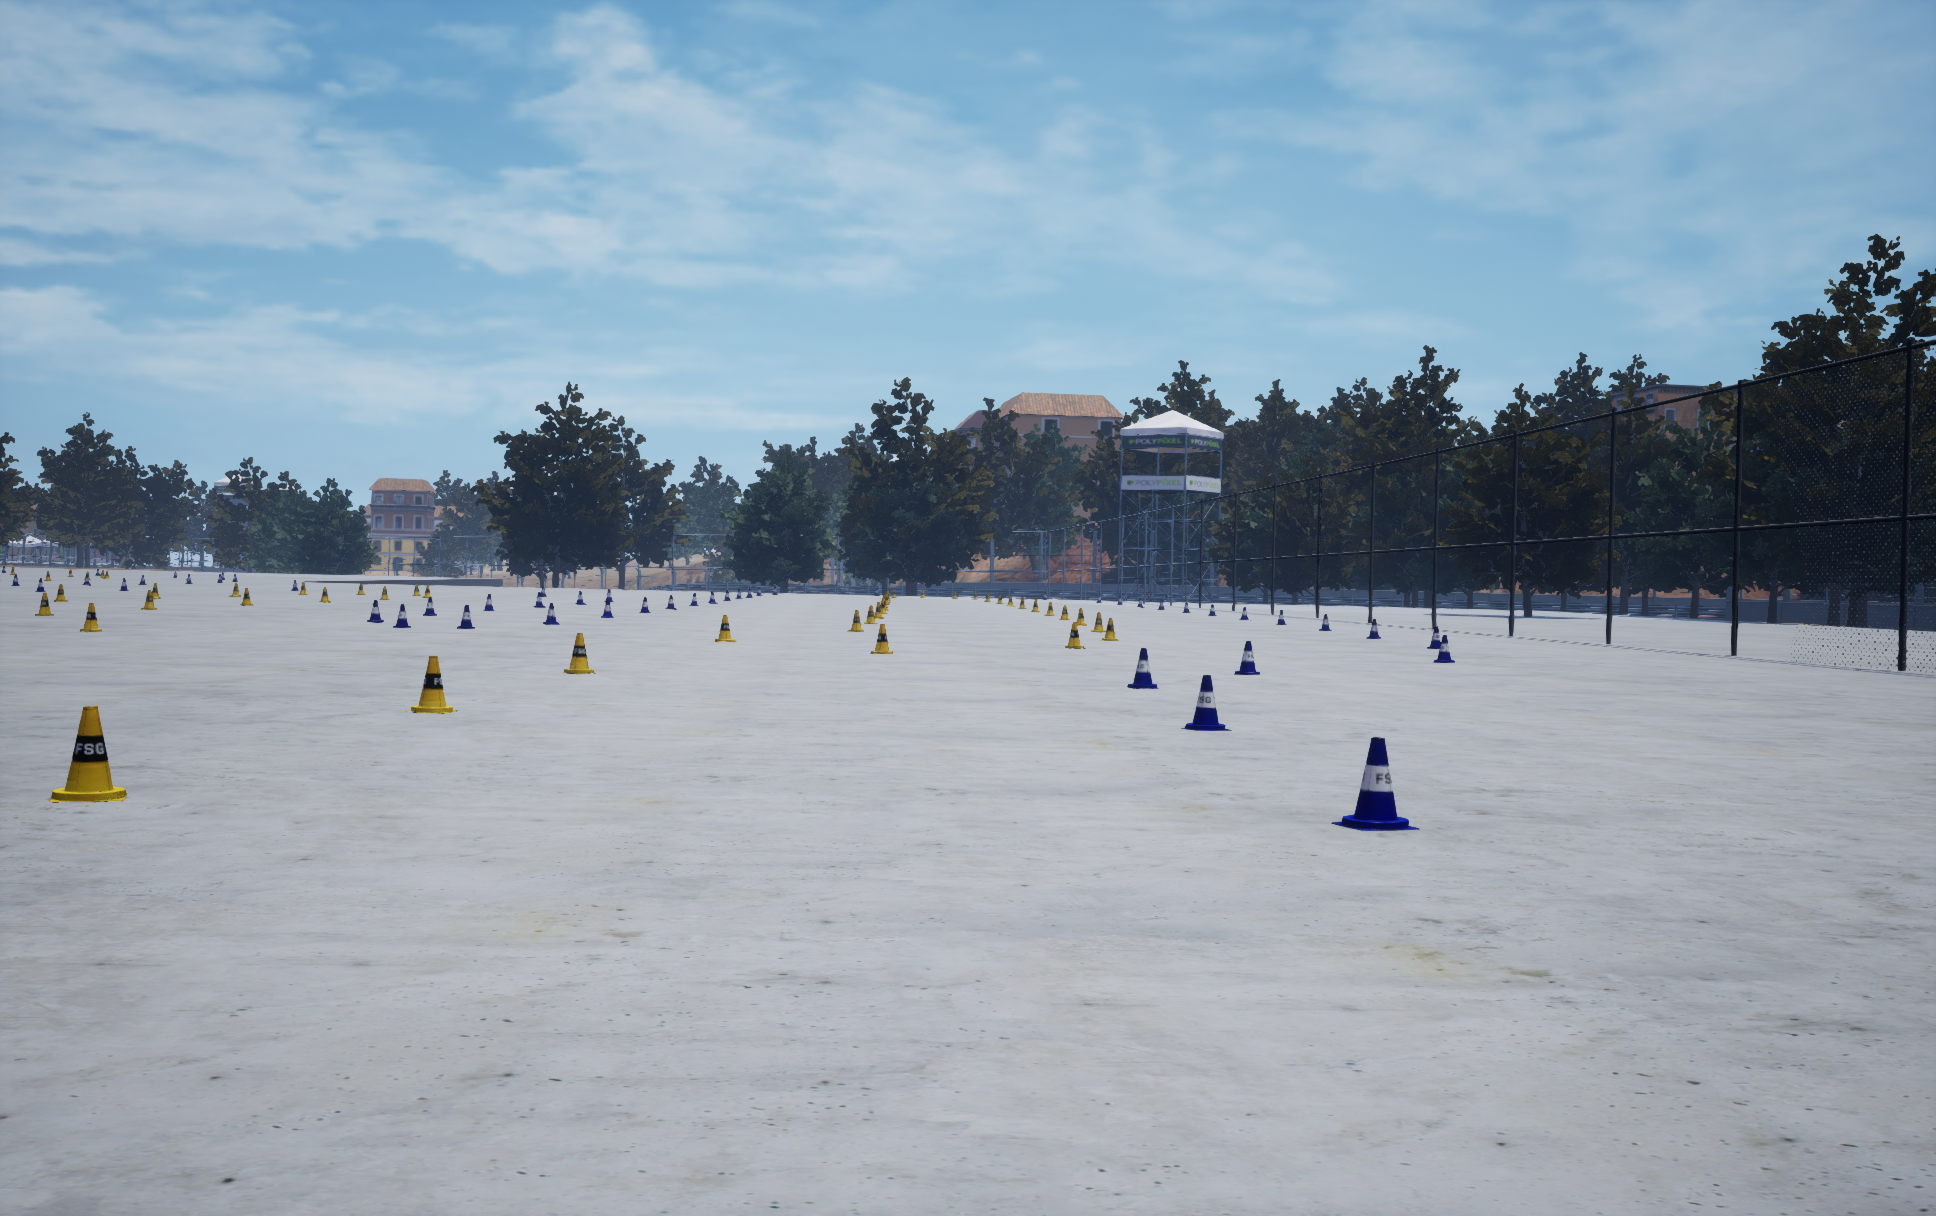blue: (49, 706, 126, 801), (405, 656, 457, 713), (563, 633, 595, 672), (870, 623, 892, 653), (80, 602, 102, 630), (714, 615, 735, 642), (1065, 622, 1086, 649), (35, 593, 53, 615), (1100, 618, 1118, 640), (848, 609, 863, 630), (141, 590, 155, 609), (1091, 612, 1105, 632), (864, 605, 877, 623)
yellow: (1331, 737, 1419, 829), (1181, 675, 1231, 730), (1128, 649, 1159, 688), (1234, 642, 1259, 674), (1433, 635, 1454, 663), (394, 604, 410, 628), (457, 605, 473, 628), (367, 600, 382, 622), (544, 602, 559, 623), (1427, 626, 1440, 649), (1366, 619, 1380, 637), (423, 597, 436, 615), (601, 600, 614, 616)
